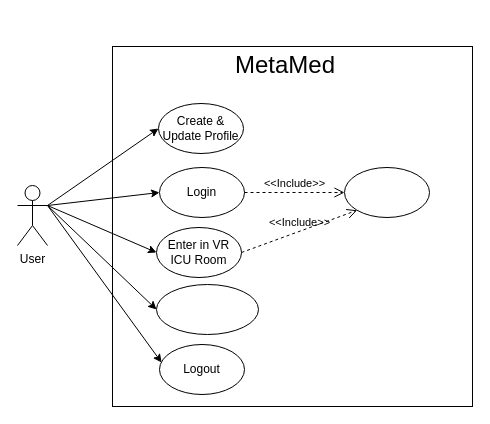
This 490x424 diagram has some shape labels left out. Here are the shapes that lost their labels. From the top down, the centre of each, then its label:
the point at 387,192: Authentication
the point at 207,309: Perform Training
